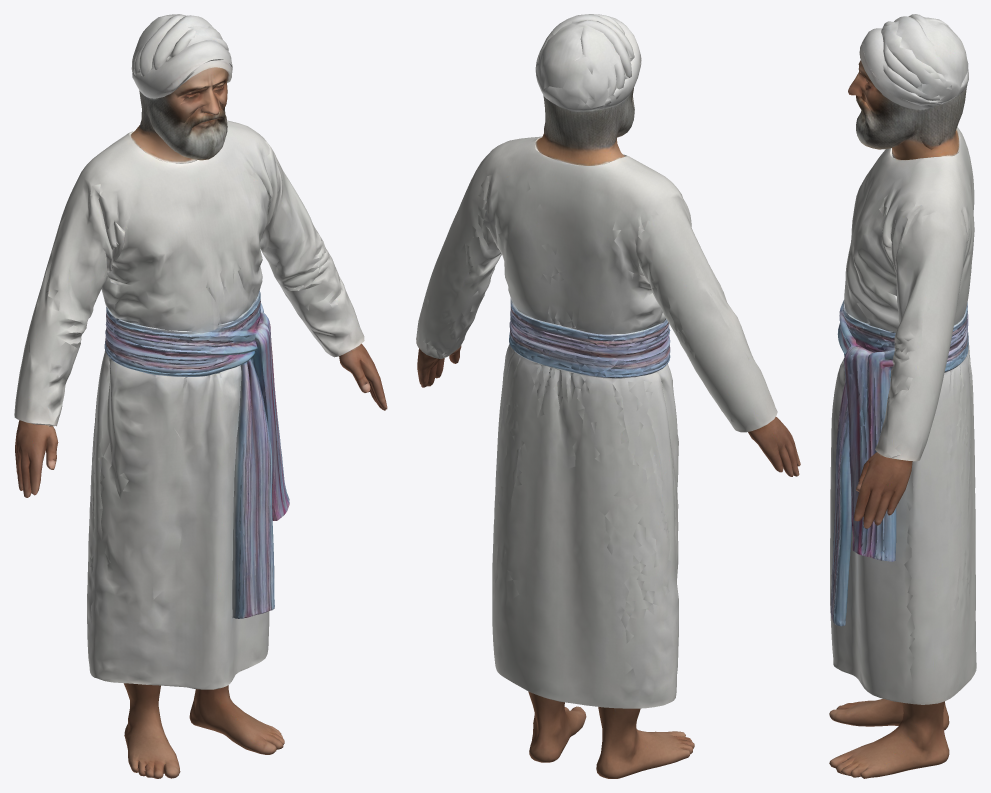
The model's file is cohen_6.glb.
3 views of the same model, side by side, from view 1: azimuth 30°, elevation 25°; view 2: azimuth 150°, elevation 25°; view 3: azimuth 270°, elevation 25° (orthographic). The views are drawn at different scales.
Parts seen in each view (by area): view 1: Mesh; view 2: Mesh; view 3: Mesh.
Part boxes in pixels (x1,y1,x2,y2): Mesh: [14, 14, 387, 778]; Mesh: [416, 14, 800, 778]; Mesh: [829, 14, 976, 778].
Size of the model in its own units: 0.9941 by 1.9 by 0.3484.
Materials: 1 (1 with a texture image).
